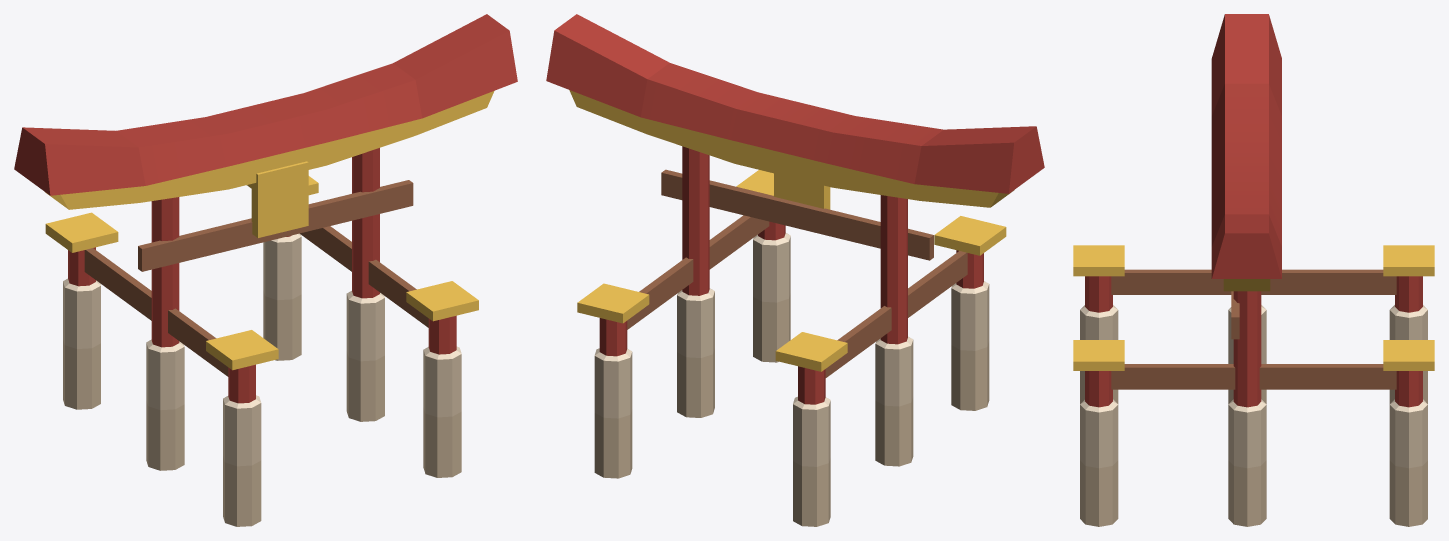
Rendered from torii_5.fbx.
3 renders of one model, left to right at view 1: azimuth 30°, elevation 25°; view 2: azimuth 150°, elevation 25°; view 3: azimuth 270°, elevation 25°, orthographic. The views are drawn at different scales.
Parts seen in each view (by area): view 1: torii_5; view 2: torii_5; view 3: torii_5.
Boxes of the visible parts, box(x1,y1,x2,y2) form: torii_5: box(14, 14, 517, 526); torii_5: box(546, 14, 1044, 526); torii_5: box(1073, 14, 1434, 526).
Size of the model in its own units: 658 by 484 by 456.
